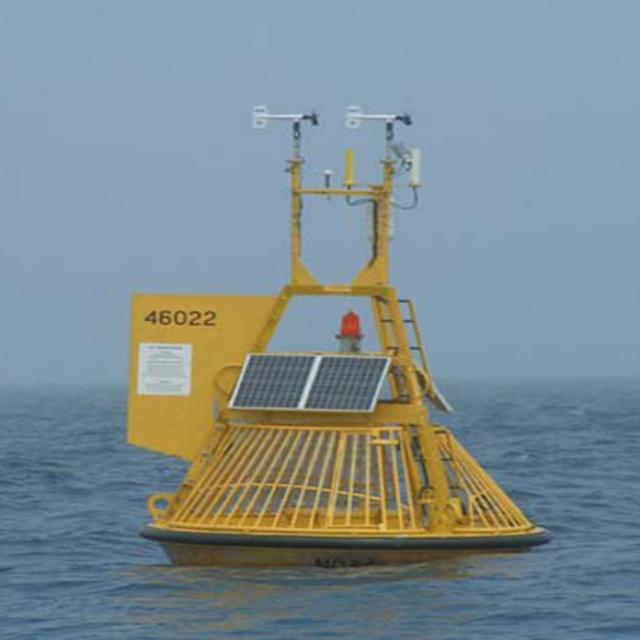buoy: (115, 94, 556, 566)
